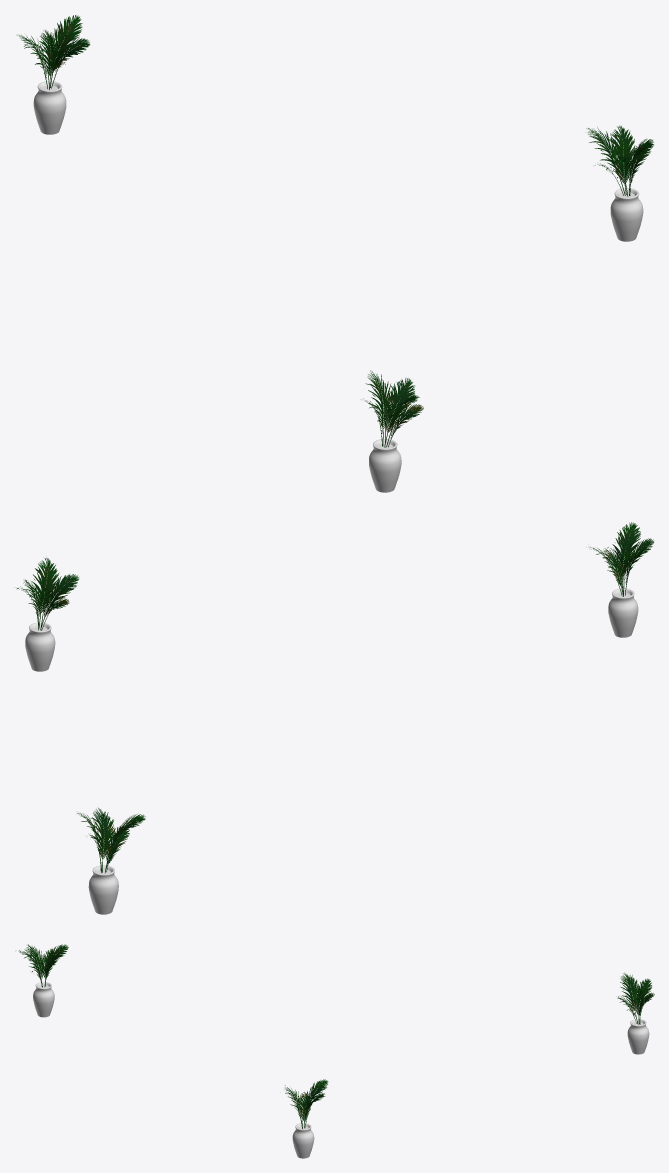
File: VASE2.glb
3 renders of one model, top to bottom at view 1: azimuth 30°, elevation 25°; view 2: azimuth 150°, elevation 25°; view 3: azimuth 270°, elevation 25°, orthographic. The views are drawn at different scales.
Visible parts, largest first — view 1: 2-VASE2; view 2: 2-VASE2; view 3: 2-VASE2.
Part boxes in pixels (x1,y1,x2,y2): 2-VASE2: [17, 15, 653, 492]; 2-VASE2: [17, 522, 653, 914]; 2-VASE2: [19, 944, 654, 1158].
Size of the model in its own units: 11.32 by 2.4 by 19.69.
